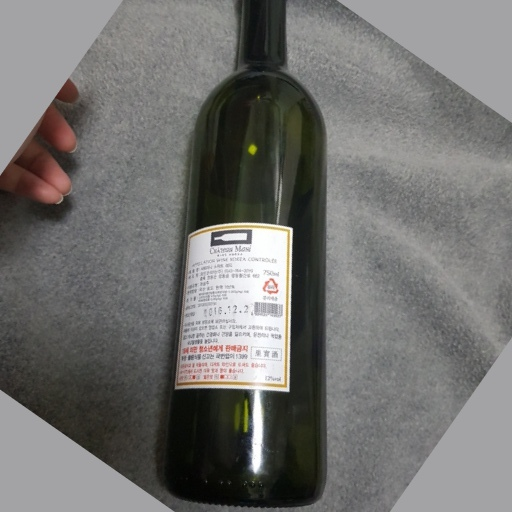Glass_2: (161, 2, 331, 509)
